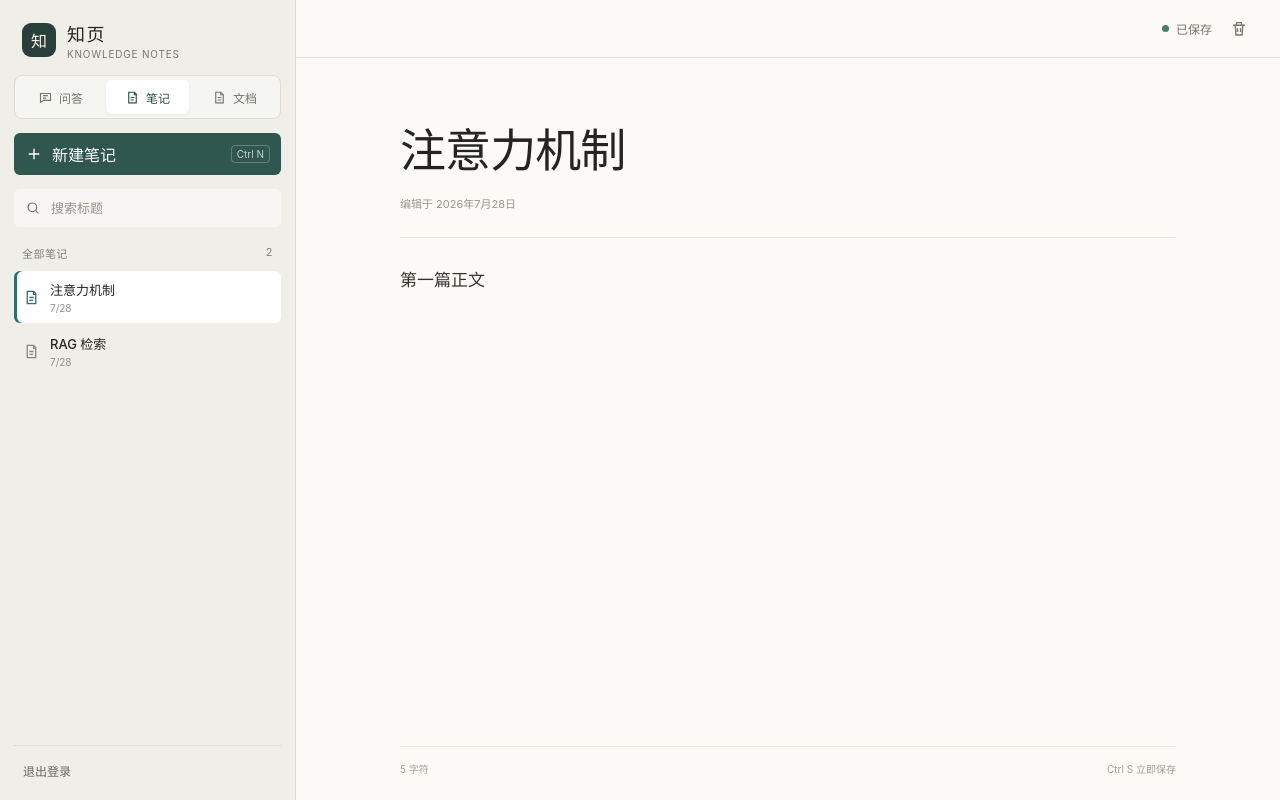
Test: 笔记工作区 › 加载列表后可切换笔记，并在缓存命中时立即恢复正文
The width and height of the screenshot is (1280, 800).
Expected: the text box showing "第一篇正文" is shown, [400,265,1176,716]
What coordinates should you click on to do the following:
click the button "RAG 检索 7/28"
I would click on:
 (78, 344)
Its box is [14,325,281,377].
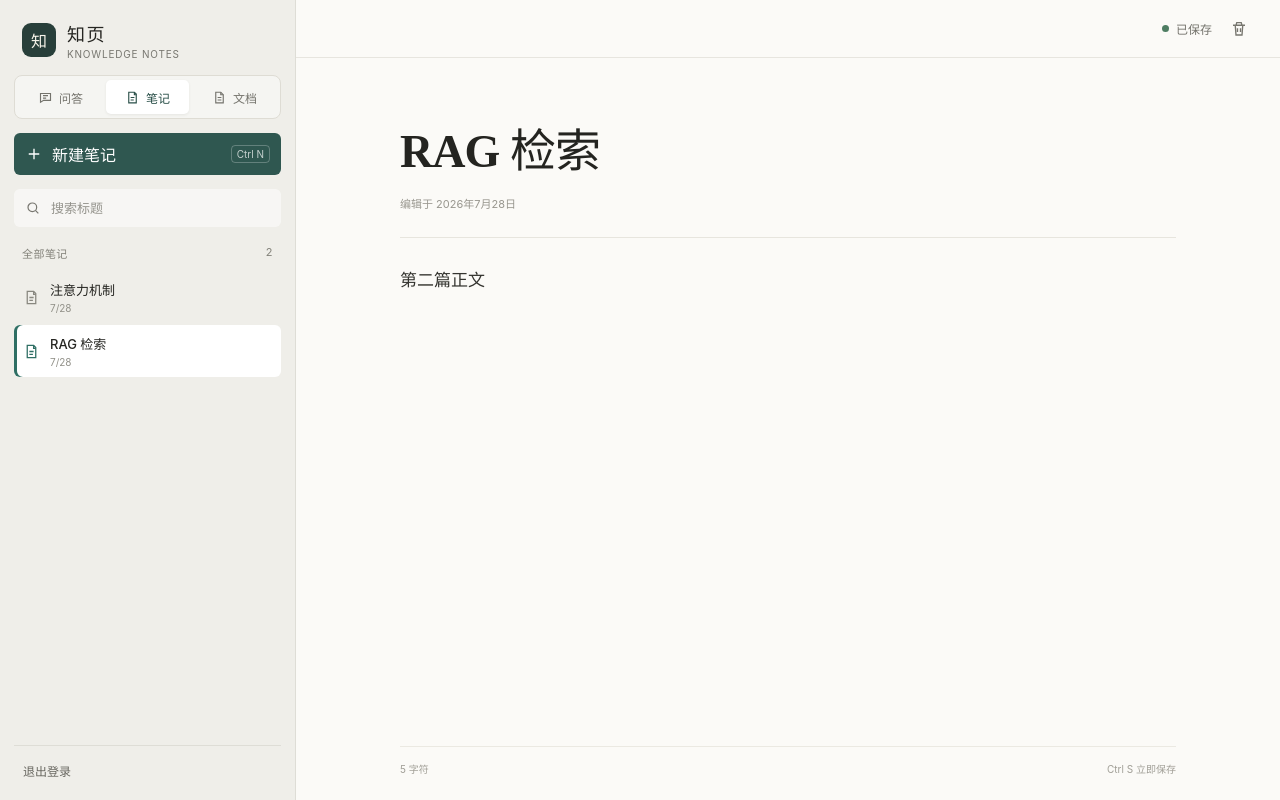
Now the text box showing "第二篇正文" is shown, box [400,265,1176,716]
What coordinates should you click on to do the following:
click the button "注意力机制 7/28"
I would click on:
 (83, 290)
Its box is [14,271,281,323].
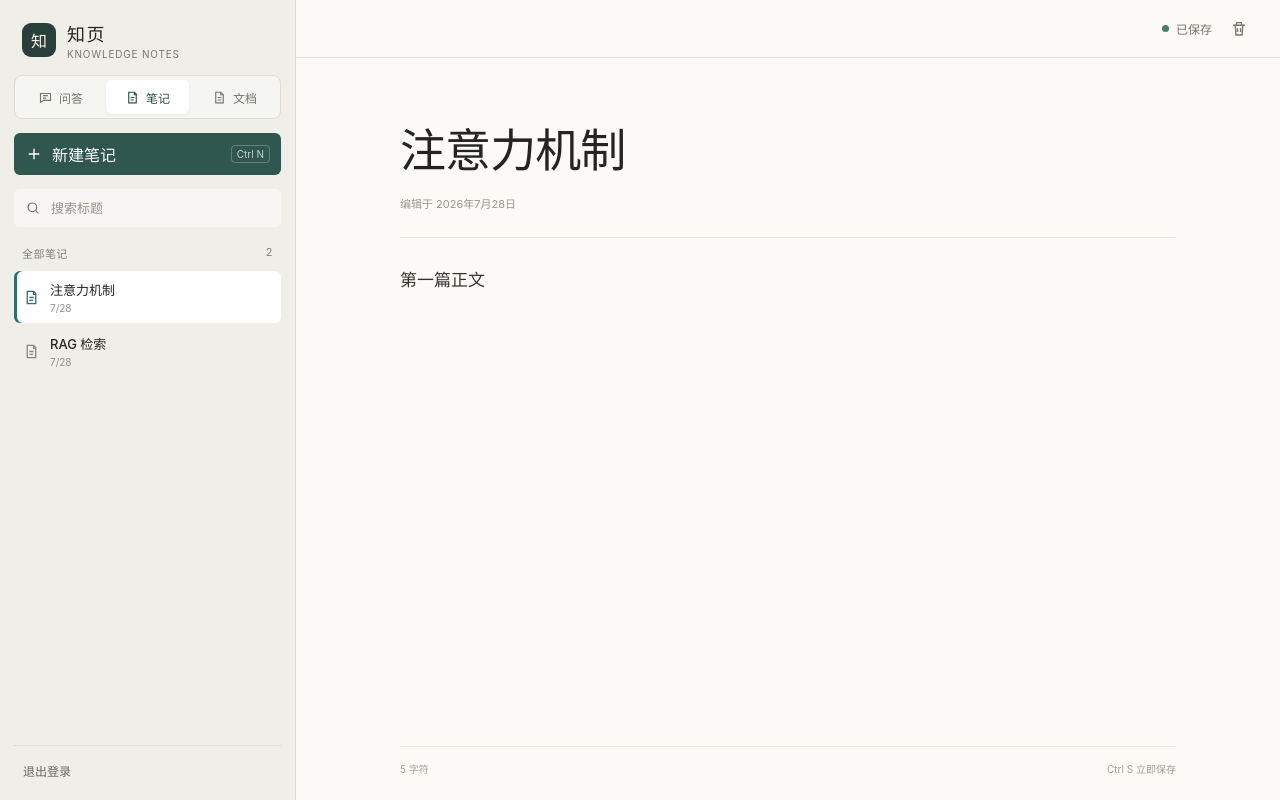
Now the text box showing "第一篇正文" is shown, box [400,265,1176,716]
